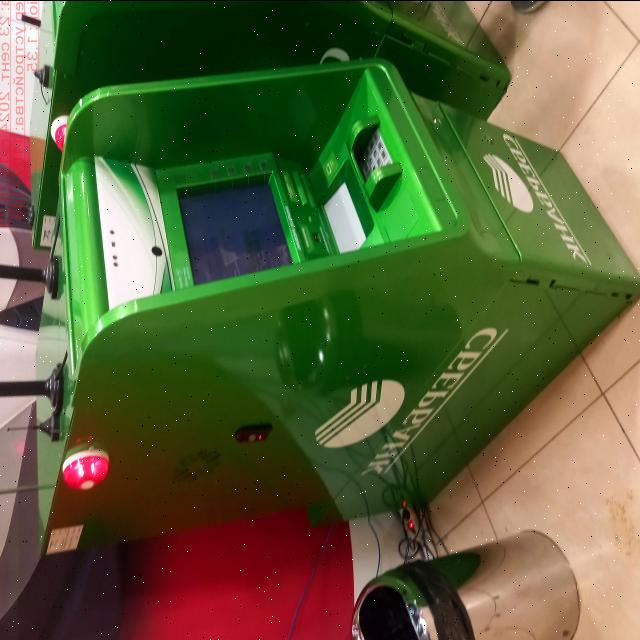bank: (30, 69, 640, 562), (30, 0, 509, 250)
